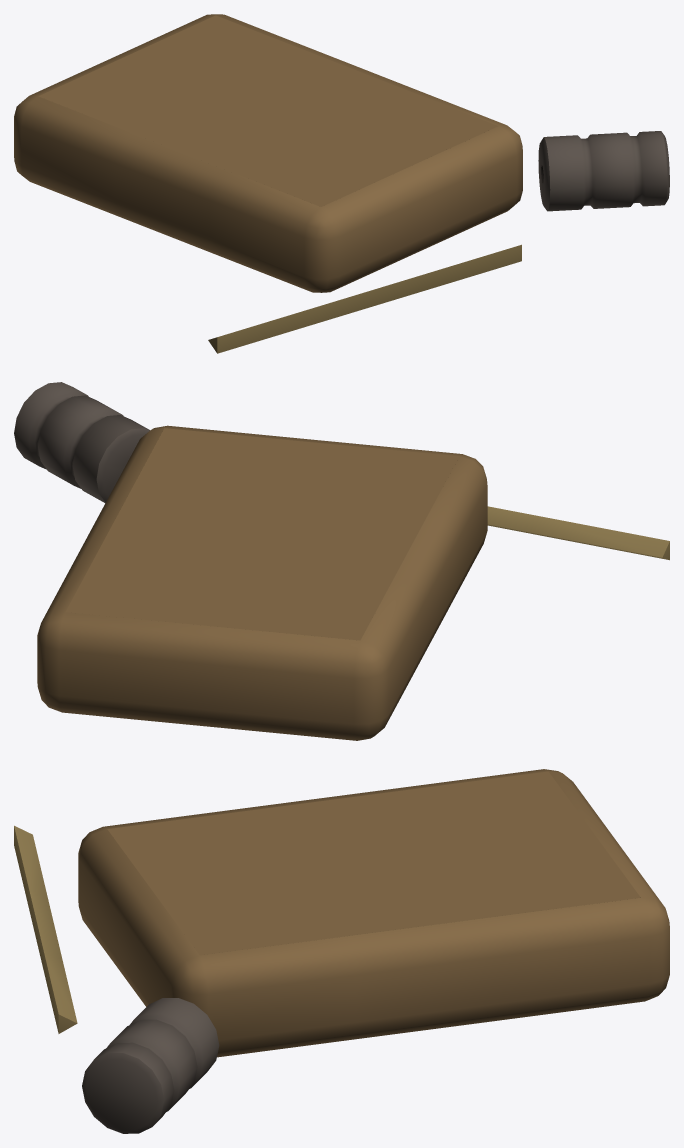
File: clay-tablet.glb
3 renders of one model, top to bottom at view 1: azimuth 30°, elevation 25°; view 2: azimuth 150°, elevation 25°; view 3: azimuth 270°, elevation 25°, orthographic. The views are drawn at different scales.
Visible parts, largest first — view 1: base, tex_face; view 2: base, tex_face; view 3: base, tex_face.
Part boxes in pixels (x1=…): base: x1=14, y1=14, x2=669, y2=353; tex_face: x1=38, y1=15, x2=498, y2=206; base: x1=14, y1=382, x2=669, y2=740; tex_face: x1=65, y1=428, x2=459, y2=640; base: x1=14, y1=769, x2=669, y2=1133; tex_face: x1=107, y1=771, x2=640, y2=955.
Bounding box in the file's own units: 0.1878 × 0.03 × 0.1761.
